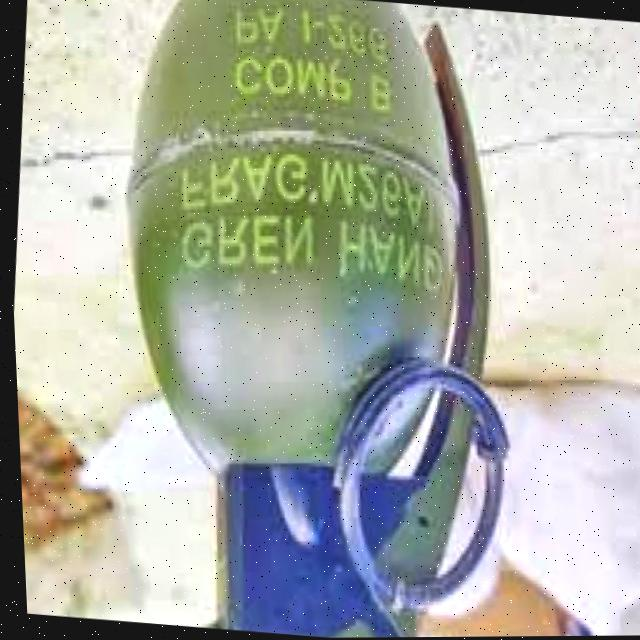grenade: (42, 0, 556, 640)
